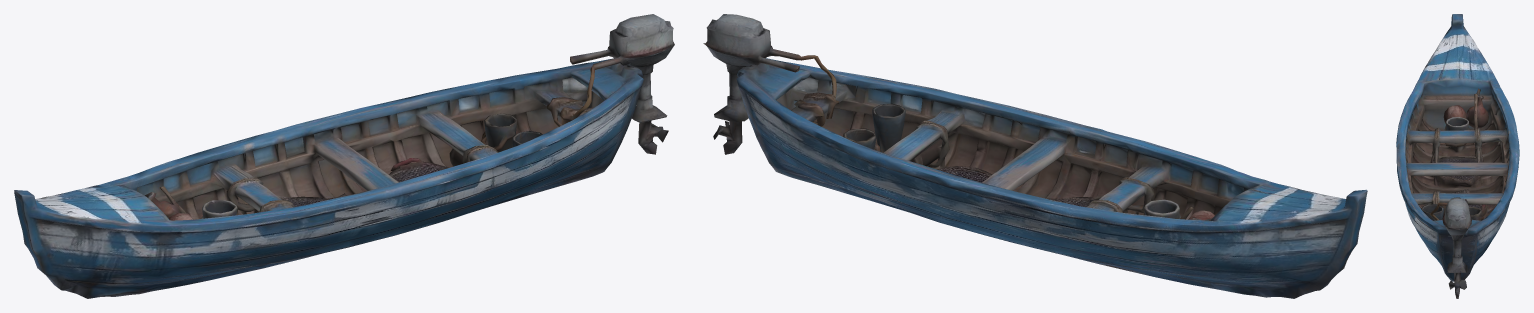
Rendered from boat_canoe.glb.
The picture shows the model from 3 angles, left to right: view 1: azimuth 30°, elevation 25°; view 2: azimuth 150°, elevation 25°; view 3: azimuth 270°, elevation 25°; orthographic projection. The views are drawn at different scales.
Visible parts, largest first — view 1: tripo_node_7011b964-abab-4c51-b30b-3d51c0aa86cc; view 2: tripo_node_7011b964-abab-4c51-b30b-3d51c0aa86cc; view 3: tripo_node_7011b964-abab-4c51-b30b-3d51c0aa86cc.
Part boxes in pixels (x1,y1,x2,y2): tripo_node_7011b964-abab-4c51-b30b-3d51c0aa86cc: (14, 14, 674, 298); tripo_node_7011b964-abab-4c51-b30b-3d51c0aa86cc: (703, 14, 1367, 298); tripo_node_7011b964-abab-4c51-b30b-3d51c0aa86cc: (1396, 14, 1519, 298).
Size of the model in its own units: 1 by 0.2221 by 0.2459.
1 material, 1 textured.
